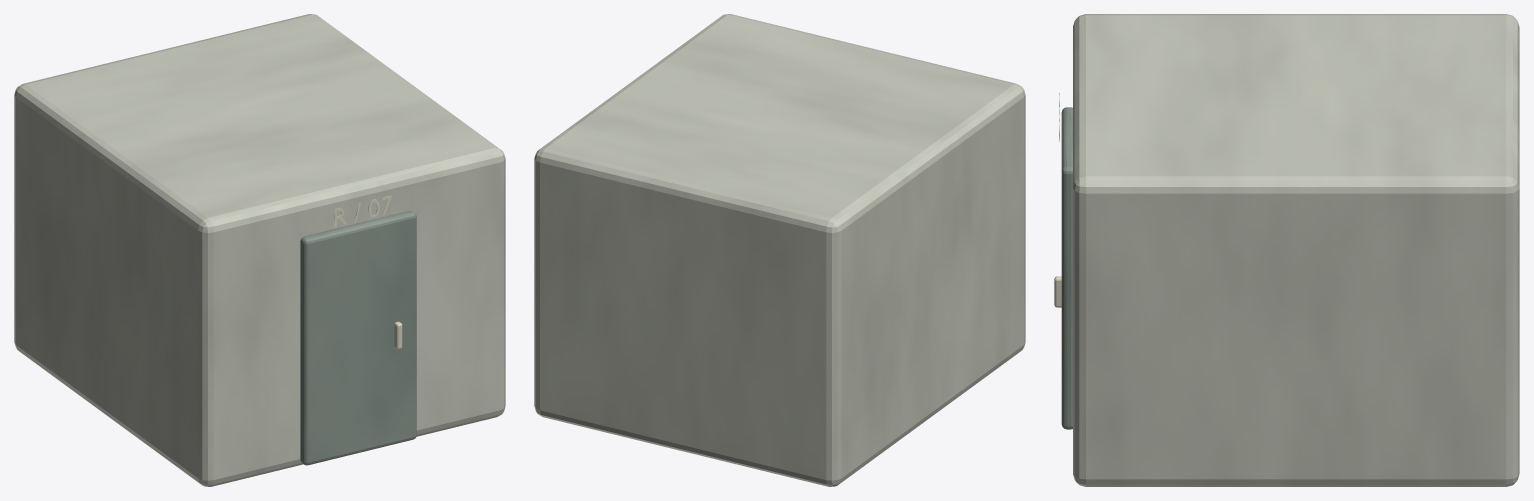
The model's file is Service_Pod.glb.
3 renders of one model, left to right at view 1: azimuth 30°, elevation 25°; view 2: azimuth 150°, elevation 25°; view 3: azimuth 270°, elevation 25°, orthographic. The views are drawn at different scales.
Parts seen in each view (by area): view 1: Service_Pod; view 2: Service_Pod; view 3: Service_Pod.
Part boxes in pixels (x1,y1,x2,y2): Service_Pod: (14, 14, 505, 486); Service_Pod: (534, 14, 1025, 486); Service_Pod: (1054, 14, 1519, 486).
Bounding box in the file's own units: 3.1 × 2.6 × 3.54.
Materials: 3 (2 with a texture image).
